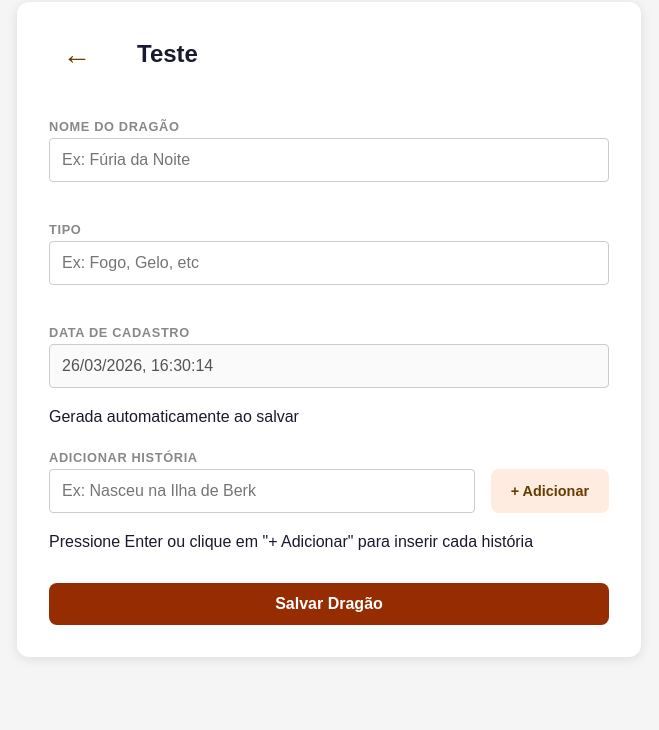
DragonForm › deve mostrar erro quando o serviço falhar
This screenshot has width=659, height=730.
In the field with placeholder "Ex: Fúria da Noite": x=329, y=160 [49,138,609,182], type "Banguela"
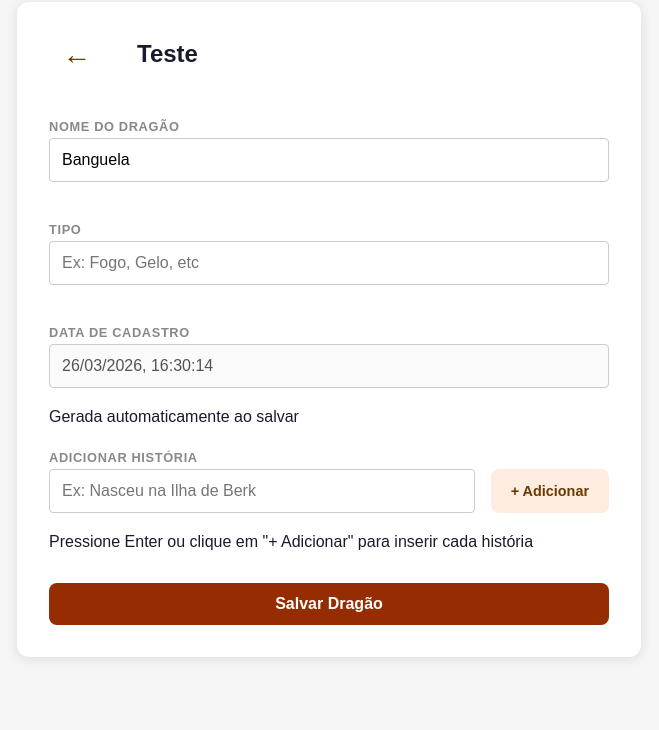
In the field with placeholder "Ex: Fogo, Gelo, etc": x=329, y=263 [49,241,609,285], type "Fogo"
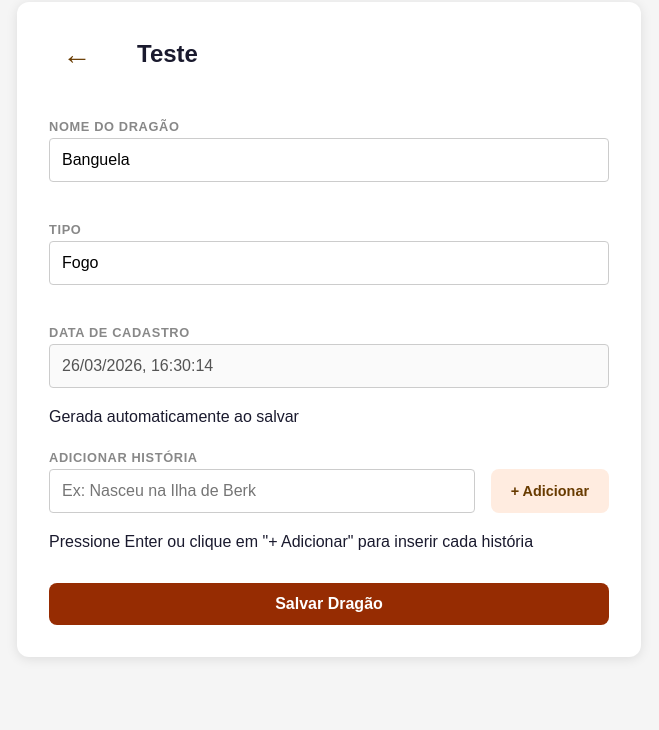
Click the button "Salvar Dragão": x=329, y=604 [49,583,609,625]
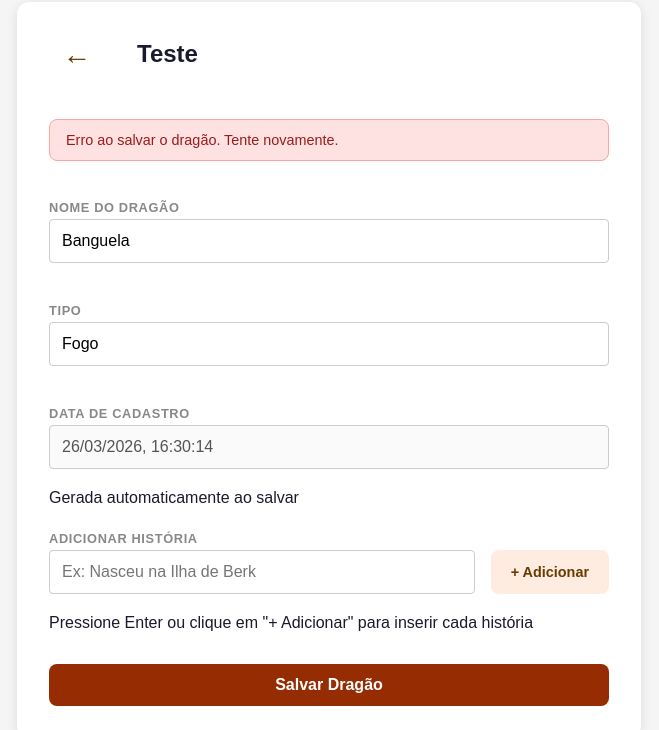
Now the text "Erro ao salvar o dragão. Tente novamente." is shown, box [49,119,609,161]
